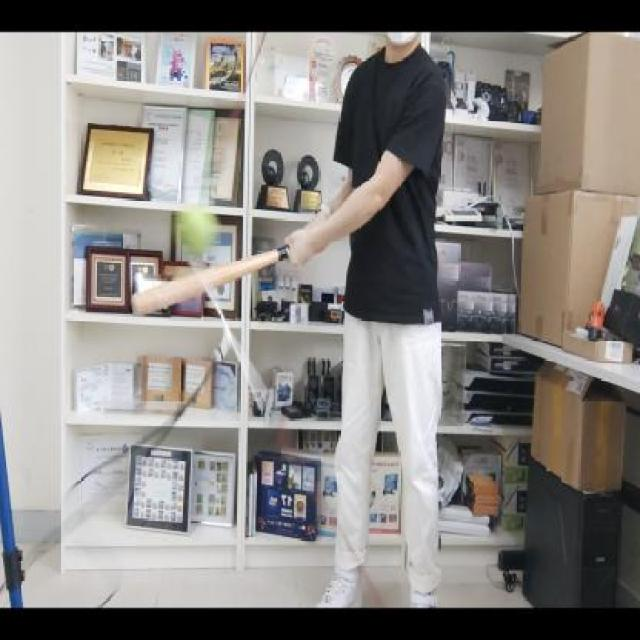baseball: (171, 197, 220, 266)
